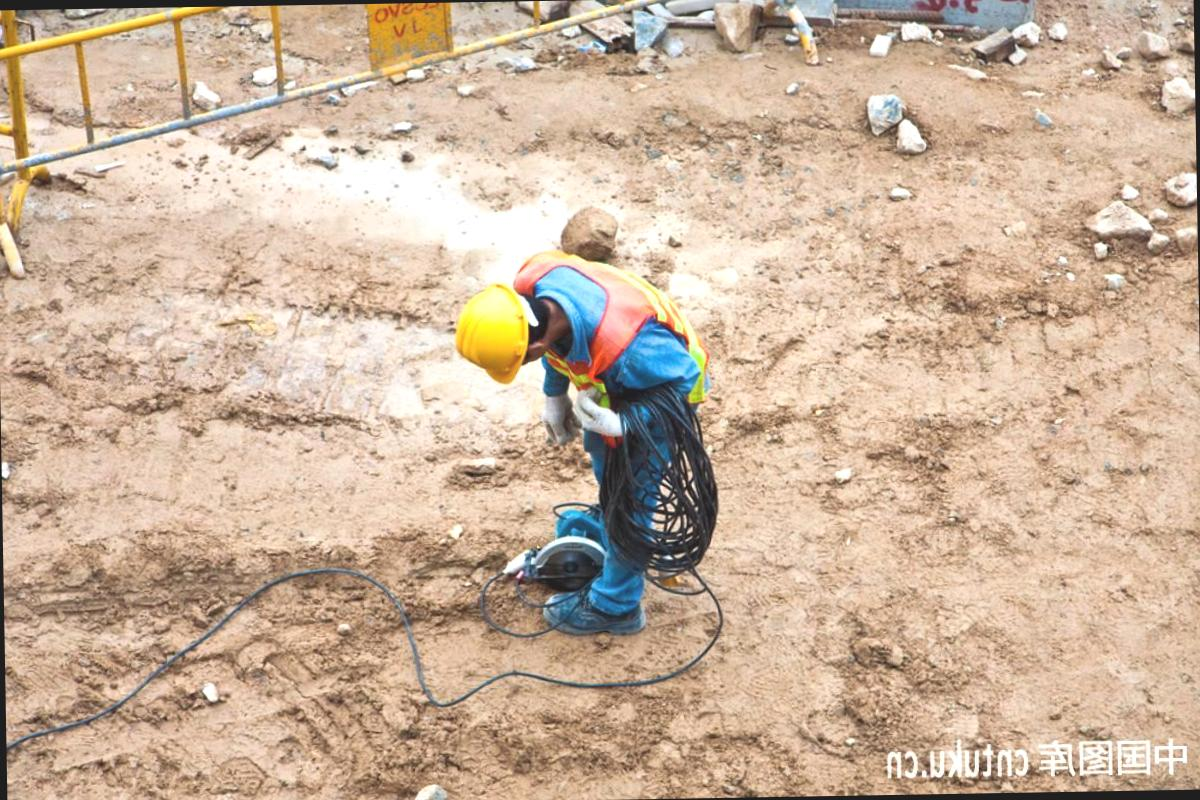helmet: (455, 278, 524, 382)
person: (452, 246, 706, 638)
